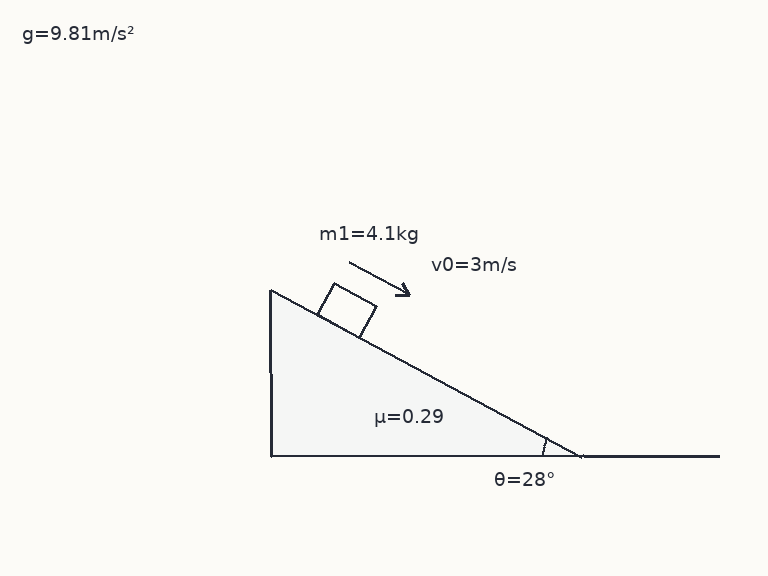block: (314, 281, 378, 339)
ramp: (269, 288, 585, 458)
